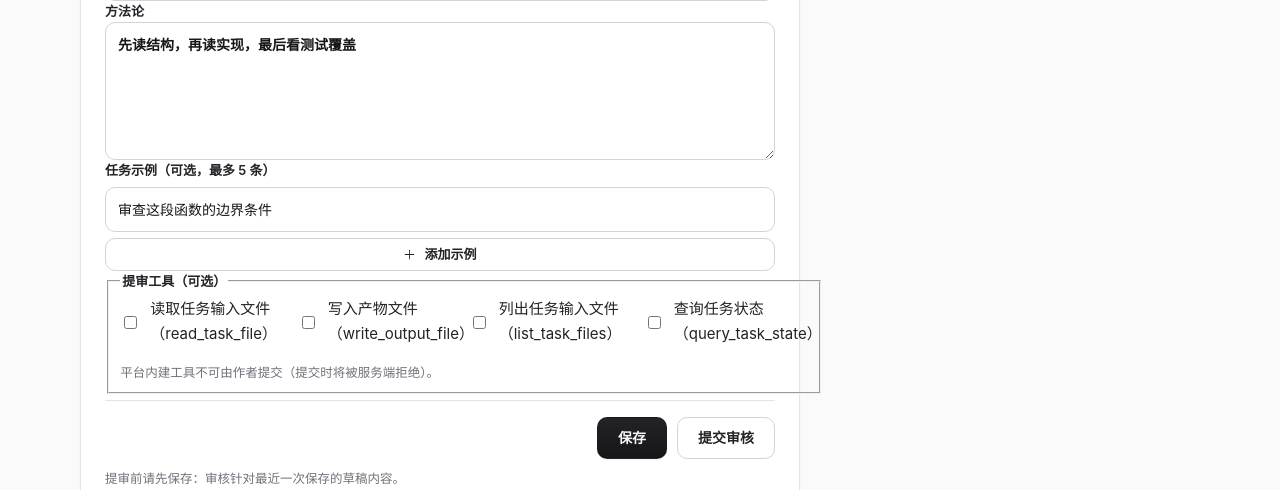
Scenario: 保存（PUT 全量替换，简报②④） › 最新 revision 为 draft → 覆写文案
(page scrolled)
Step 1. Click the button "保存" → (632, 438), box [597, 417, 667, 459]
(page scrolled)
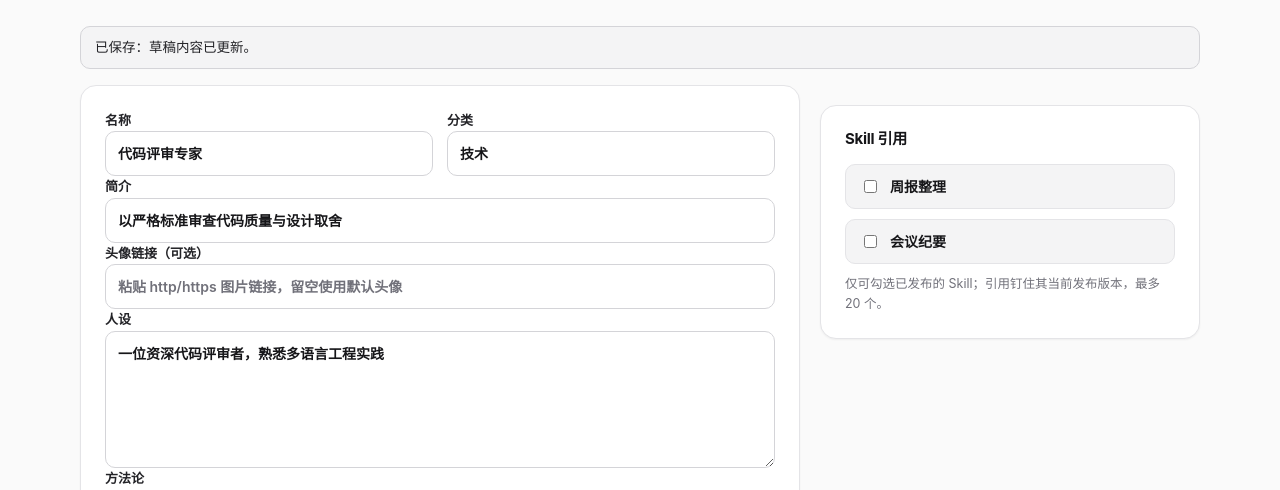
Expected: the text "已保存：草稿内容已更新。" is shown, [80, 26, 1200, 69]
